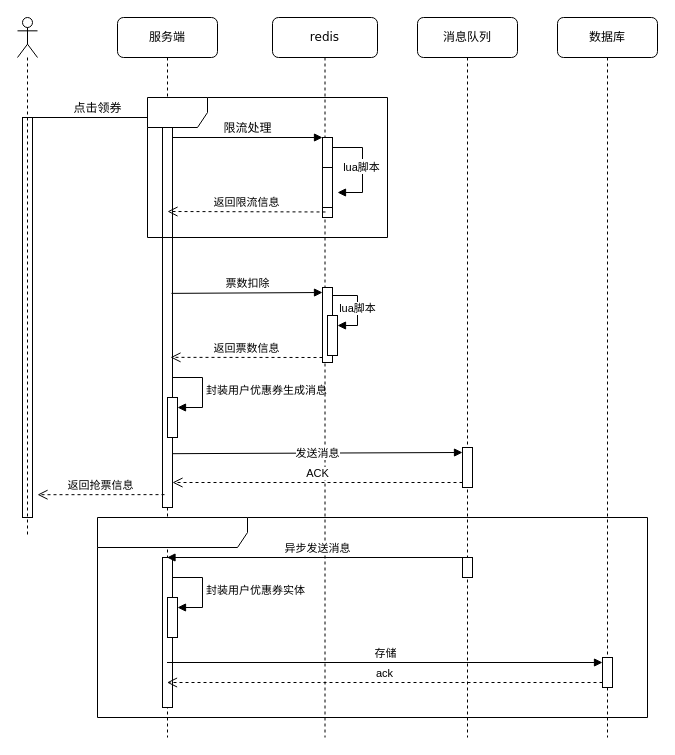
The diagram is 675 pixels wide and 755 high, and some of its shapes have lost their labels. Each missing label, with the box of its shape:
滑动窗口: (146, 96, 388, 238)
用户优惠券消息监听: (96, 516, 648, 718)
